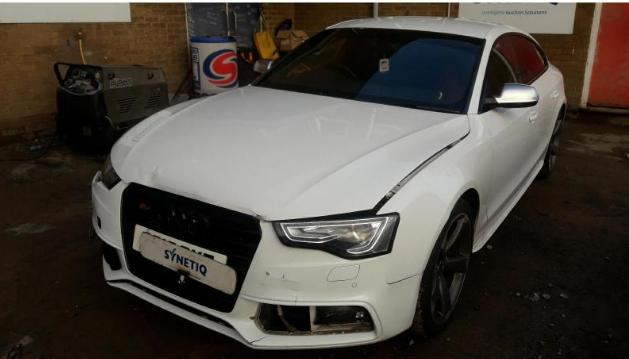Back-door: (511, 34, 563, 156)
Back-wheel: (543, 119, 562, 175)
Back-window: (509, 36, 545, 83)
Fender: (378, 114, 494, 285)
Front-bumper: (89, 173, 423, 349)
Front-door: (478, 33, 541, 230)
Front-wheel: (395, 198, 474, 353)
Front-window: (485, 36, 523, 98)
Grille: (120, 181, 262, 313), (133, 225, 237, 294)
Headlight: (272, 214, 399, 261), (96, 155, 121, 190)
Hood: (109, 85, 470, 222)
License-plate: (133, 225, 236, 294)
Mirror: (483, 82, 539, 108)
Quarter-panel: (547, 61, 567, 107)
Rocker-panel: (472, 149, 547, 253)
Roof: (327, 15, 509, 38)
Windshield: (252, 28, 485, 115)
